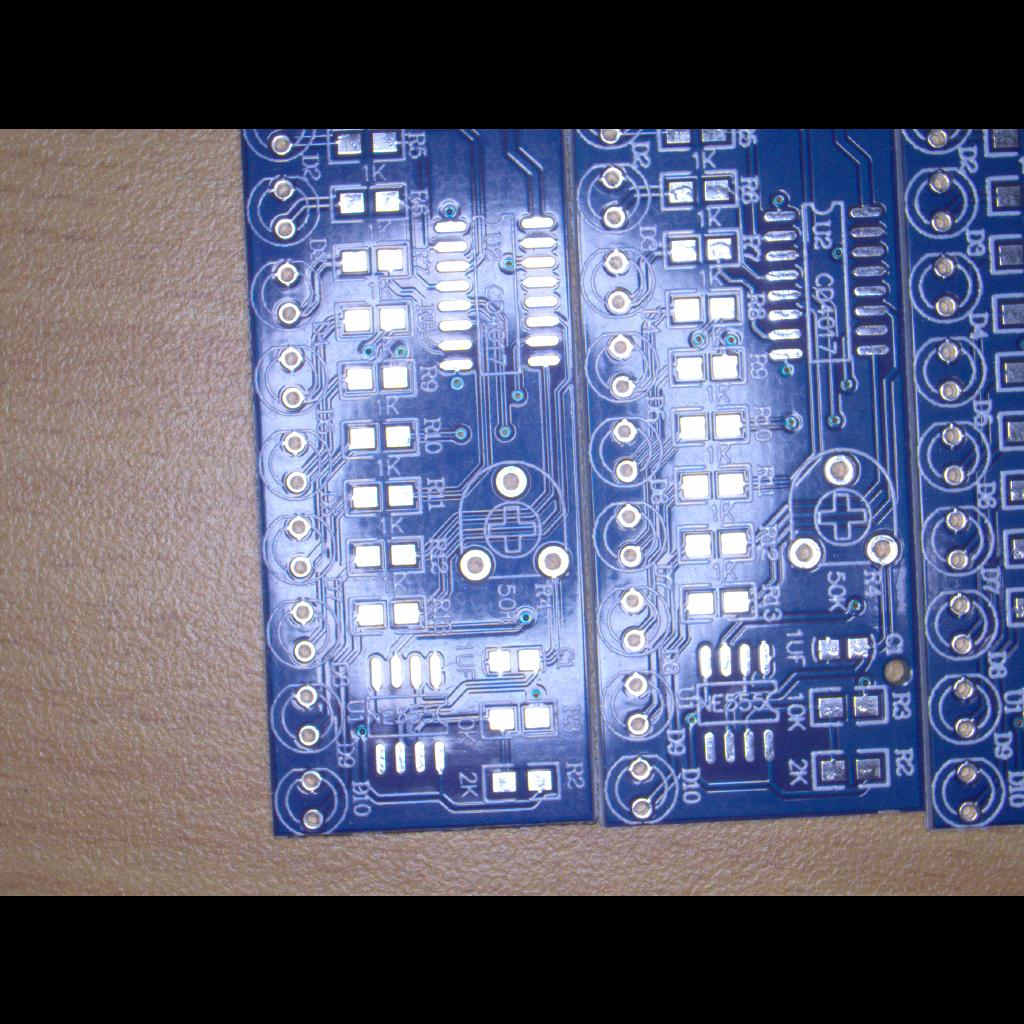NG: (426, 206, 572, 384), (757, 192, 895, 370), (690, 635, 782, 769), (362, 644, 450, 782), (676, 576, 762, 630), (321, 180, 419, 226), (328, 297, 420, 343), (332, 416, 424, 462), (474, 758, 566, 804), (668, 462, 760, 508), (807, 745, 895, 793), (332, 356, 422, 402), (337, 474, 427, 520), (657, 226, 747, 272), (339, 533, 431, 577), (656, 166, 744, 212), (668, 402, 758, 446), (806, 684, 892, 730), (661, 285, 747, 329), (672, 520, 758, 564), (319, 128, 417, 166), (666, 344, 750, 388), (344, 595, 430, 637), (326, 239, 416, 279), (474, 700, 564, 740), (474, 639, 552, 681), (805, 631, 879, 667), (644, 128, 746, 154)
